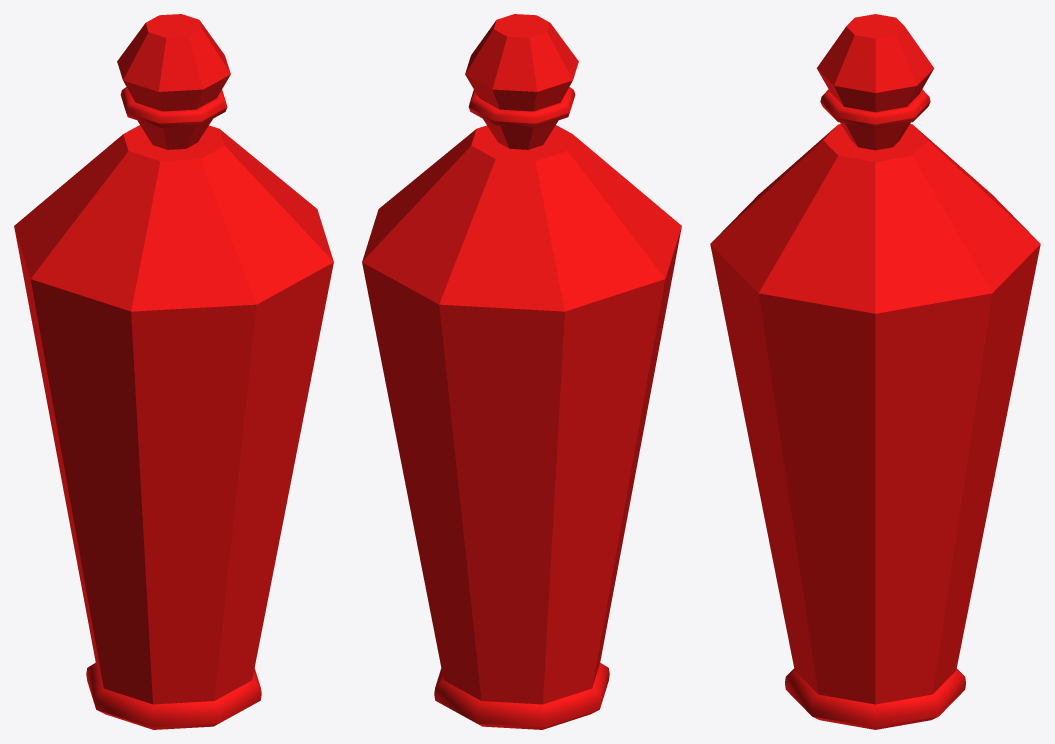
The model's file is potion.fbx.
The picture shows the model from 3 angles, left to right: view 1: azimuth 30°, elevation 25°; view 2: azimuth 150°, elevation 25°; view 3: azimuth 270°, elevation 25°; orthographic projection.
Parts seen in each view (by area): view 1: Object001; view 2: Object001; view 3: Object001.
Boxes of the visible parts, box(x1,y1,x2,y2) form: Object001: box(14, 14, 333, 729); Object001: box(362, 14, 681, 729); Object001: box(710, 14, 1040, 729).
Bounding box in the file's own units: 40.9 × 91.52 × 40.9.
